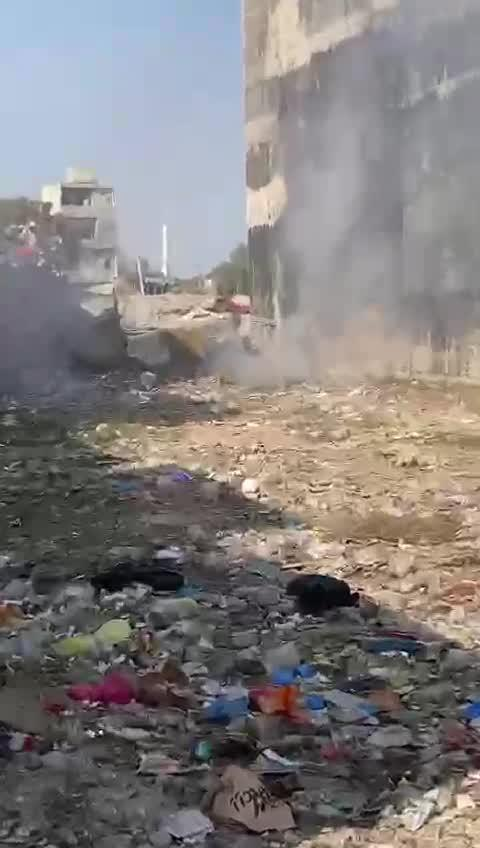garbage: (5, 366, 480, 848)
